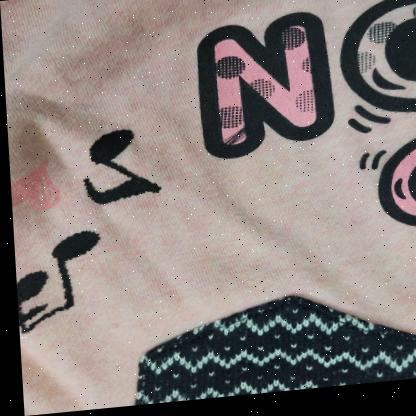spot: (218, 133, 247, 150)
